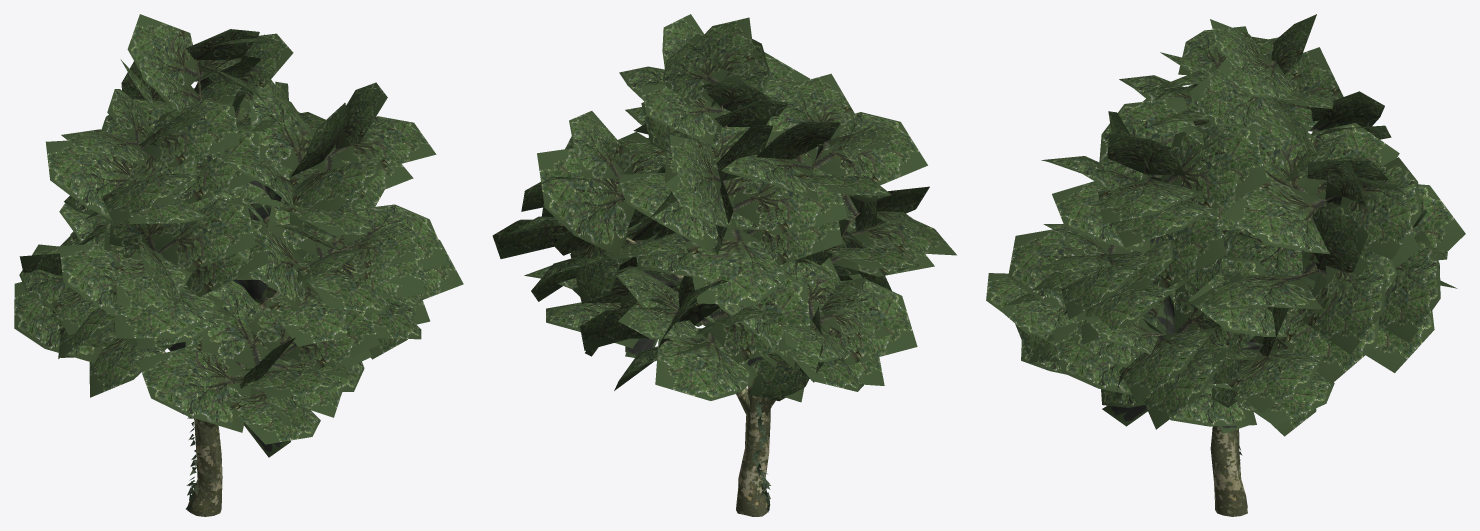
File: imported_tree.fbx
3 views of the same model, side by side, from view 1: azimuth 30°, elevation 25°; view 2: azimuth 150°, elevation 25°; view 3: azimuth 270°, elevation 25° (orthographic). The views are drawn at different scales.
Visible parts, largest first — view 1: Polygon; view 2: Polygon; view 3: Polygon.
Part boxes in pixels (x1,y1,x2,y2): Polygon: (14,14,463,516); Polygon: (492,14,956,516); Polygon: (986,14,1465,516).
Size of the model in its own units: 12.83 by 16.12 by 14.08.
